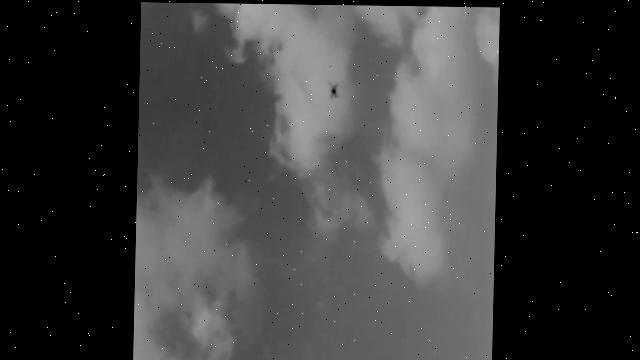drone: (324, 76, 339, 102)
